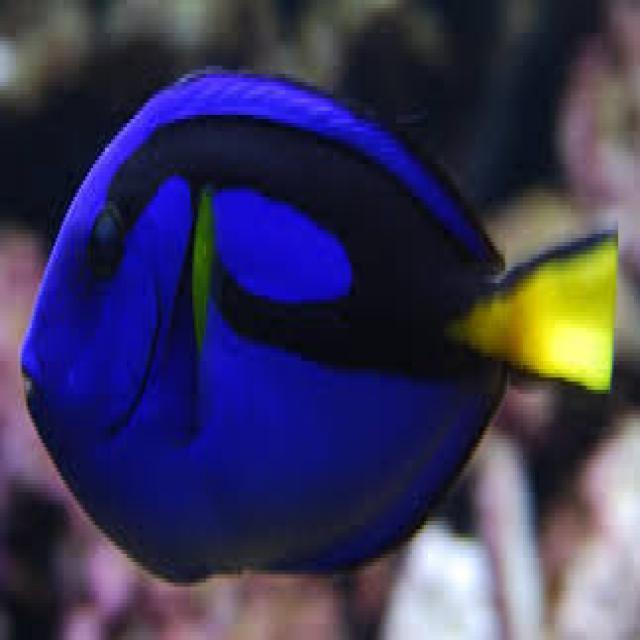TangFish: (13, 56, 620, 586)
